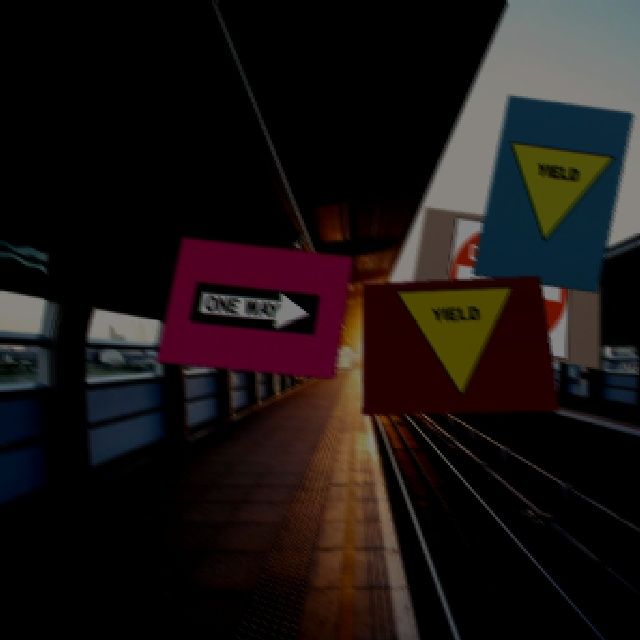DO_NOT_ENTER: (439, 209, 579, 356)
ONE_WAY_ right: (188, 278, 320, 331)
YIELD: (396, 283, 525, 394), (492, 139, 615, 245)
